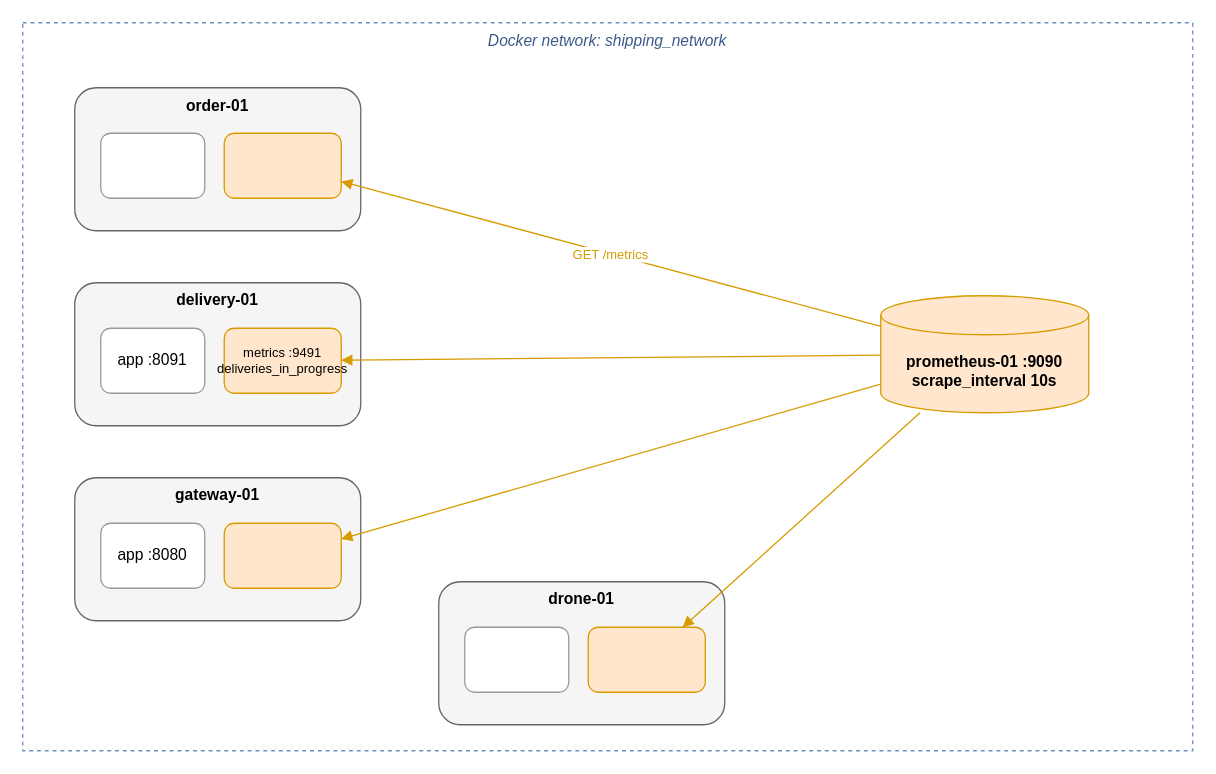
Some shapes in this 1216 by 774 pixel diagram are drawn without their labels. The centre of each missing label's shape, as x and y in pixels:
"app :8090" goes at point 152,165.
"app :8092" goes at point 516,659.
"metrics :9490 orders_placed_total" goes at point 282,165.
"metrics :9492 gateway_requests_total" goes at point 282,555.
"metrics :9493 drones_available" goes at point 646,659.
